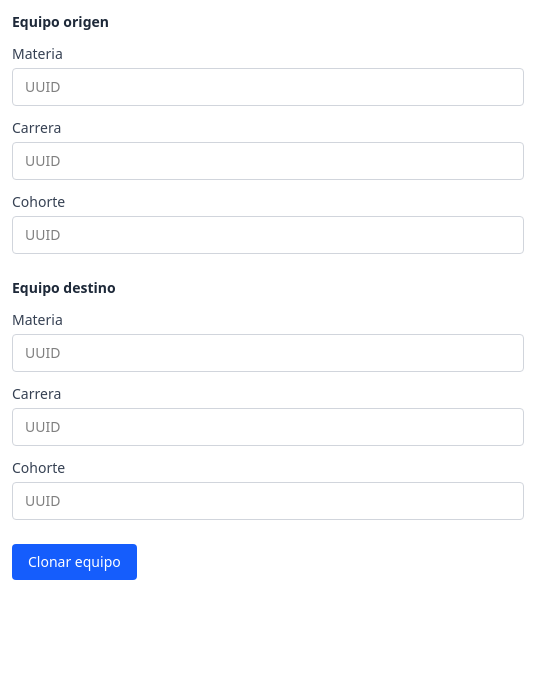
ClonarEquipoForm › 13.2b: shows warning when destination has existing asignaciones
Note: Fill origen fields
In the 1st field with placeholder "UUID": point(268, 87) [12,68,524,106], type "00000000-0000-0000-0000-000000000001"
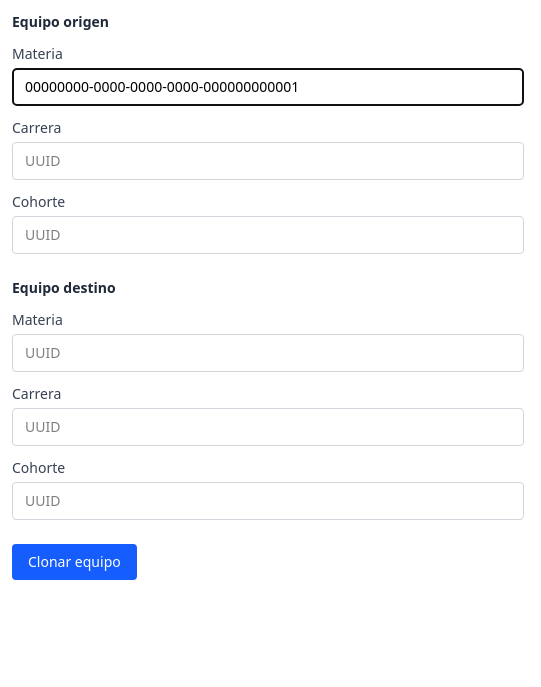
In the 1st field with placeholder "UUID": point(268, 161) [12,142,524,180], type "00000000-0000-0000-0000-000000000002"
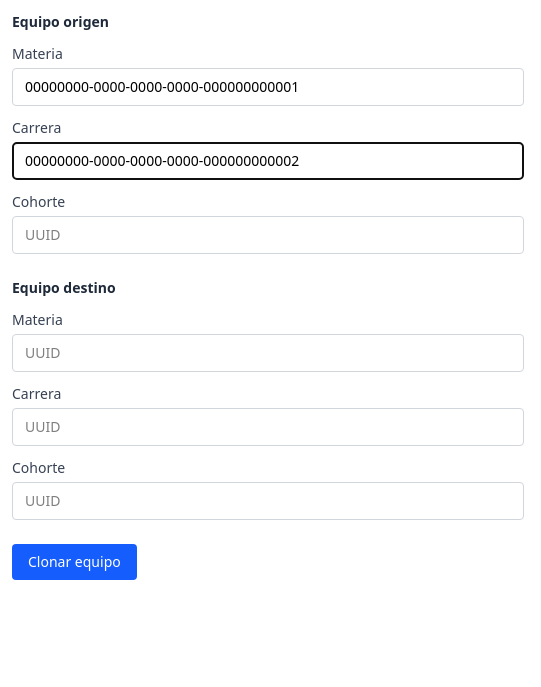
In the field with placeholder "UUID" below "Equipo origen": point(268, 235) [12,216,524,254], type "00000000-0000-0000-0000-000000000003"
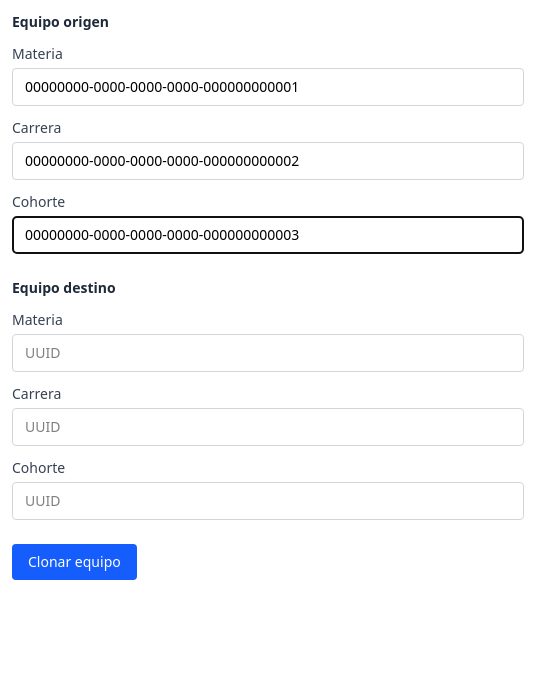
In the 1st field with placeholder "UUID": point(268, 353) [12,334,524,372], type "00000000-0000-0000-0000-000000000004"
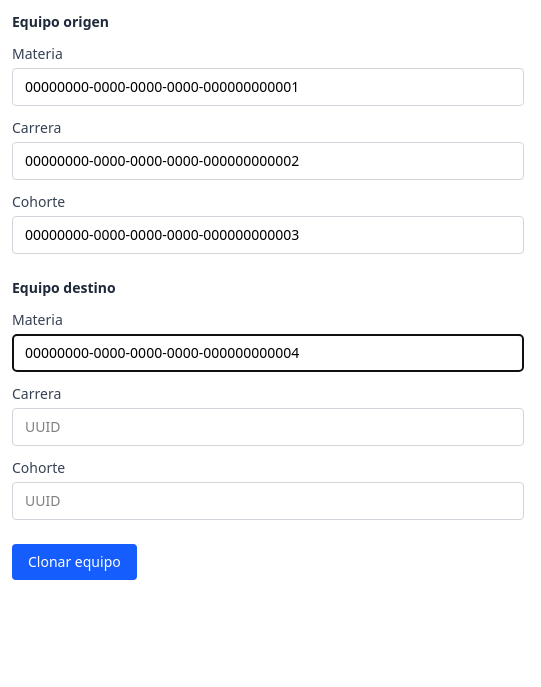
In the 1st field with placeholder "UUID": point(268, 427) [12,408,524,446], type "00000000-0000-0000-0000-000000000005"
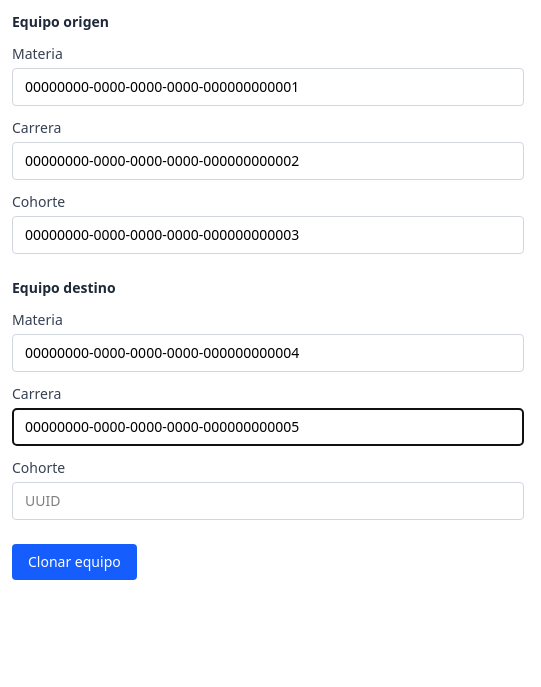
In the field with placeholder "UUID": point(268, 501) [12,482,524,520], type "00000000-0000-0000-0000-000000000006"
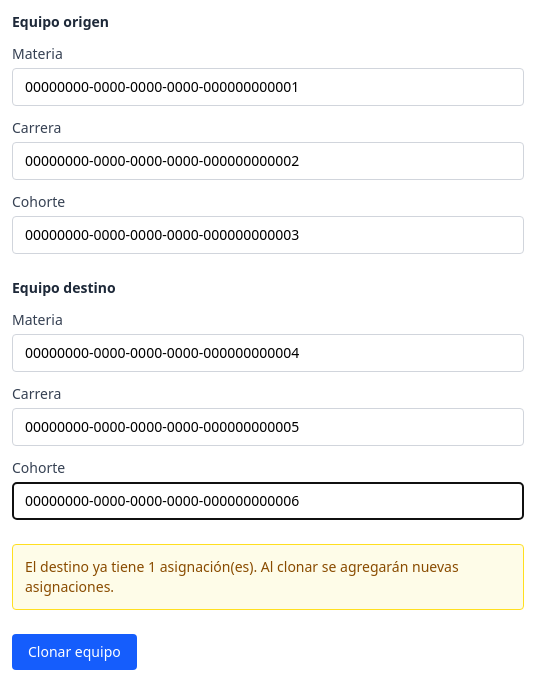
Expected: the text "destino ya tiene" is shown, [25,557,148,576]
